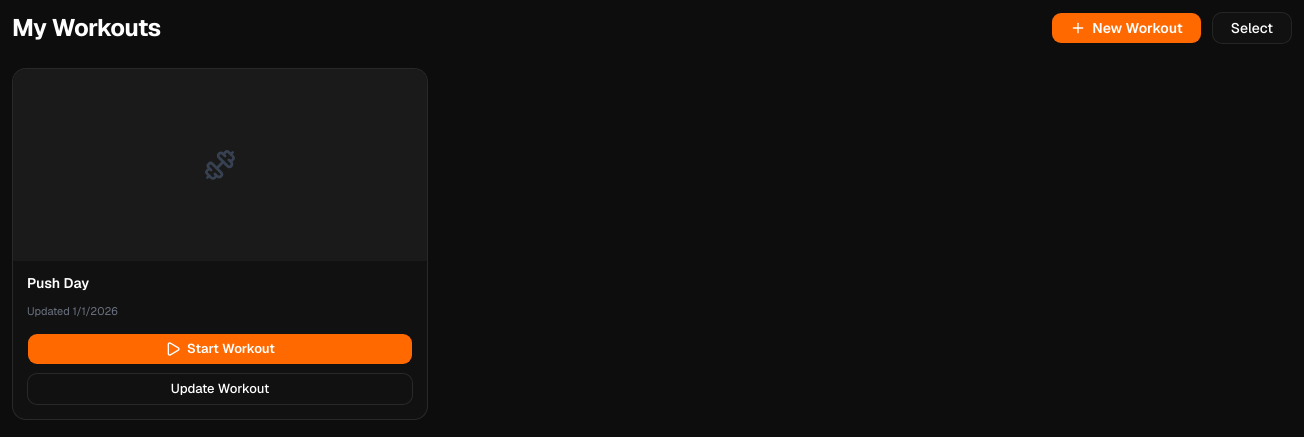
WorkoutList › entering Select mode shows Cancel button
Click the button "Select" at (1252, 28), box [1212,12,1292,44]
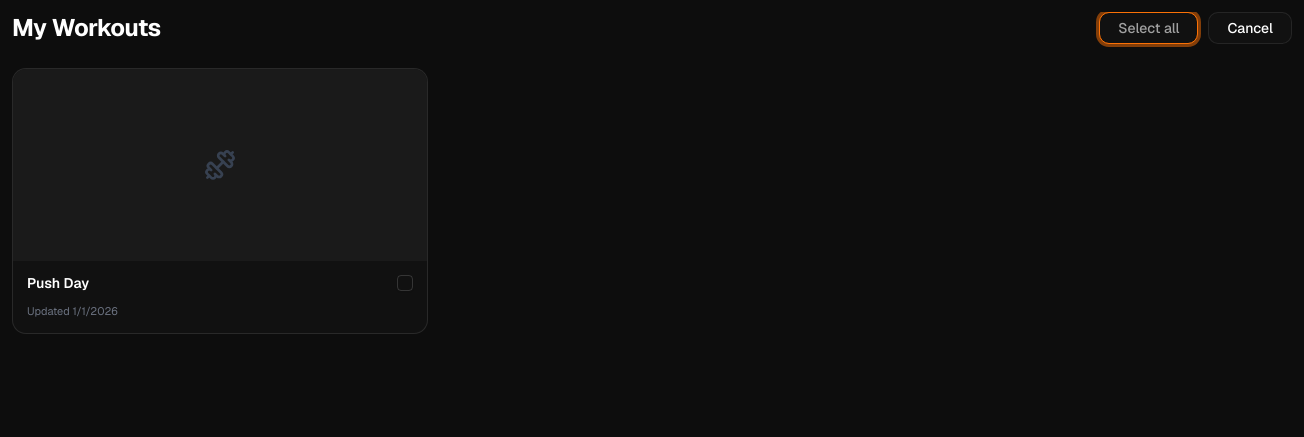
Expected: the button "Cancel" is shown, [1208,12,1292,44]
